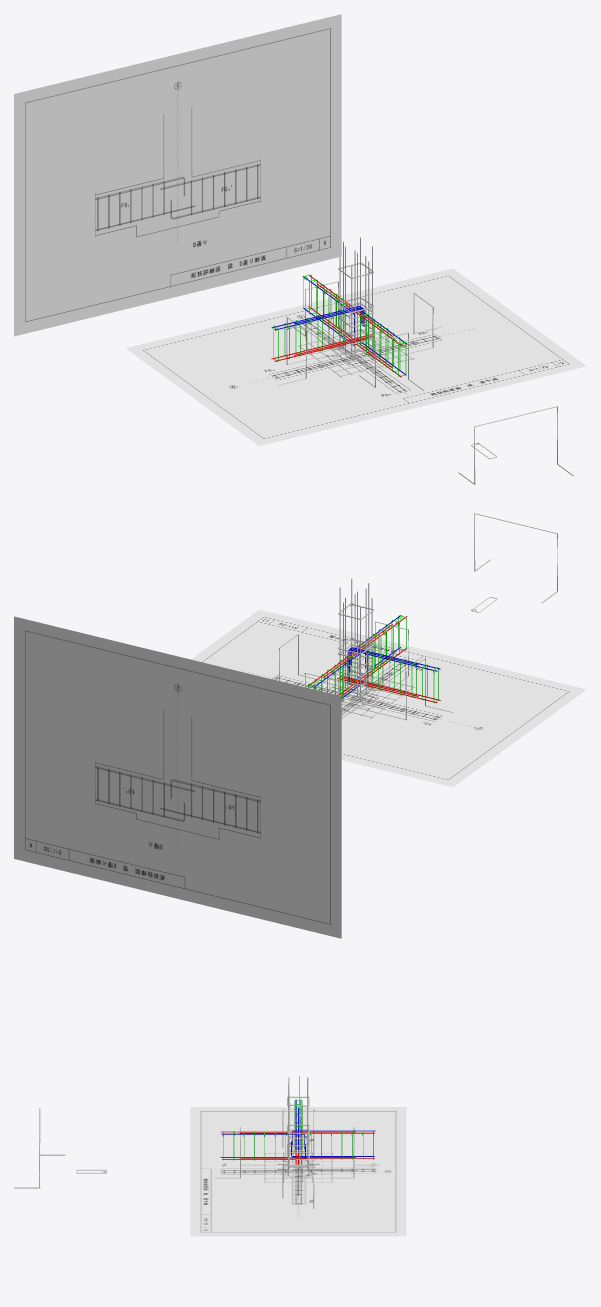
3 views of the same model, one above another, from view 1: azimuth 30°, elevation 25°; view 2: azimuth 150°, elevation 25°; view 3: azimuth 270°, elevation 25° (orthographic). The views are drawn at different scales.
Visible parts, largest first — view 1: 平面.001_平面.003, 平面_平面.001, 1360.012_01.014; view 2: 平面.001_平面.003, 平面_平面.001, 1360.012_01.014; view 3: 平面_平面.001, 1360.012_01.014.
Part boxes in pixels (box(x1,y1,x2,y2)): 平面.001_平面.003: box(14, 14, 341, 336); 平面_平面.001: box(126, 268, 586, 445); 1360.012_01.014: box(298, 328, 414, 377); 平面.001_平面.003: box(14, 616, 341, 938); 平面_平面.001: box(191, 609, 586, 787); 1360.012_01.014: box(316, 670, 414, 718); 平面_平面.001: box(190, 1107, 406, 1236); 1360.012_01.014: box(263, 1152, 332, 1182).
Bounding box in the file's own units: 5940 × 4200 × 11120.
